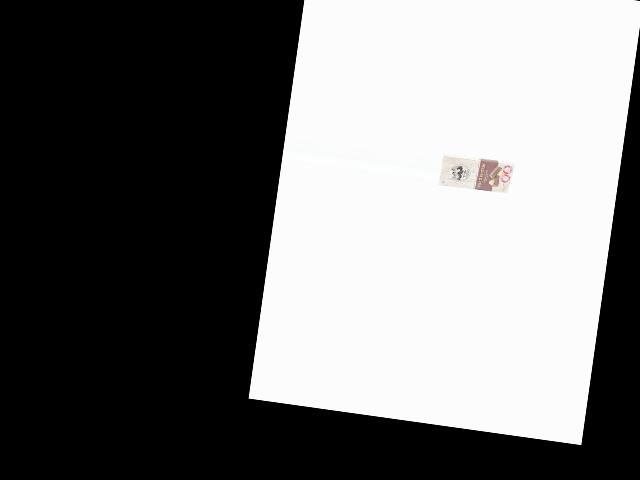chocolate: (438, 147, 516, 196)
